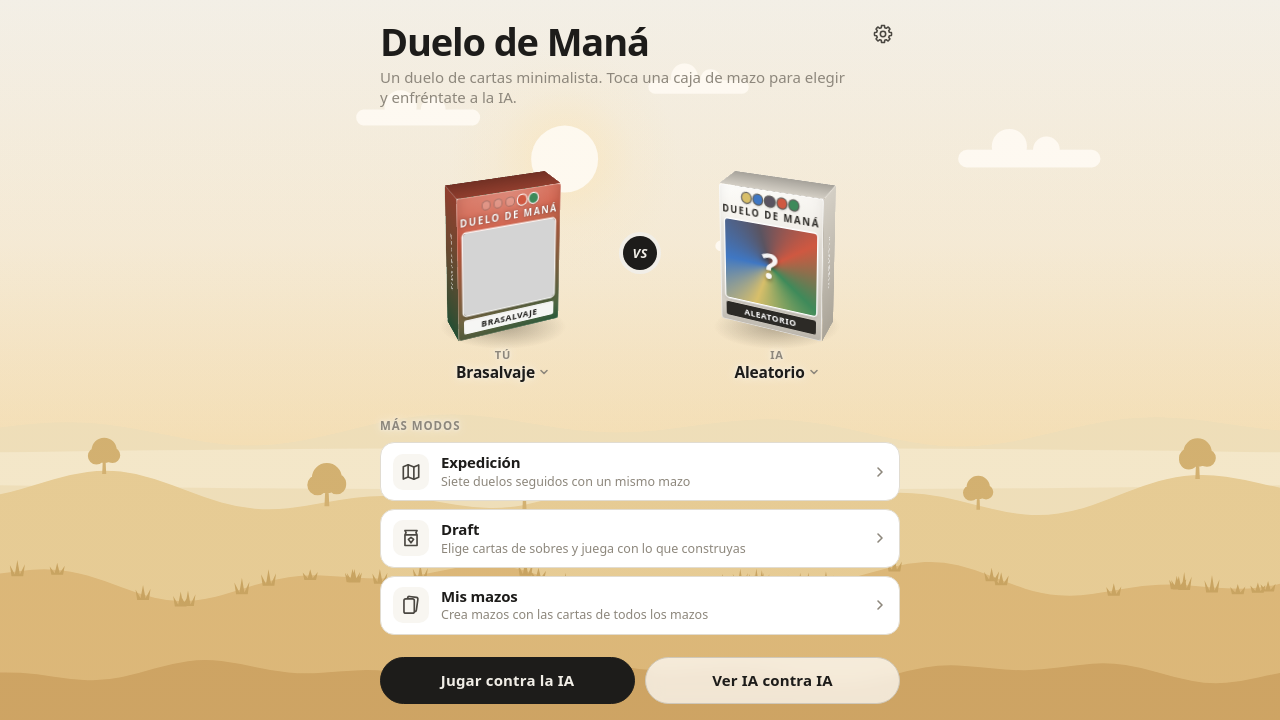
Test: starting an expedition › opens from the start screen, starts a run with the chosen deck and shows its rivals
Expected: the text with test id "btn-expedition-status" reads "Siete duelos seguidos con un mismo mazo", [441, 473, 690, 490]
Click the button with test id "btn-expedition". click: point(640, 472)
box: [380, 442, 900, 501]
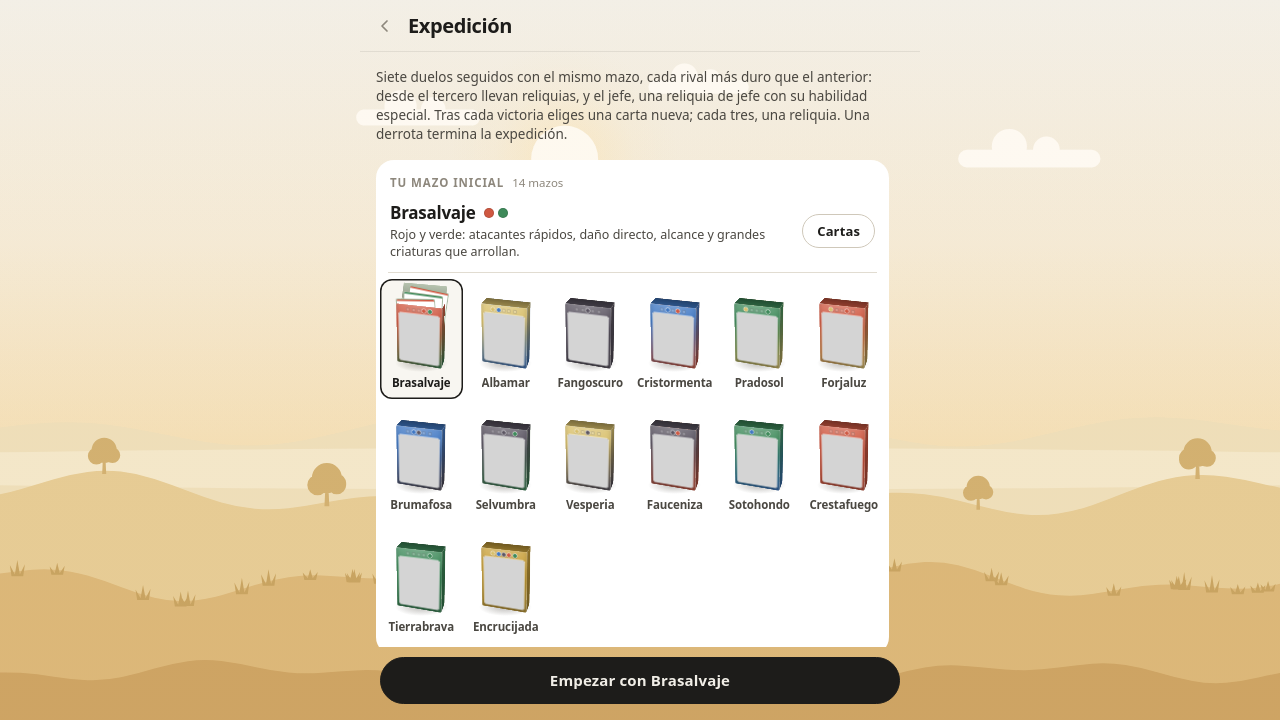
Click the radio button with test id "expedition-deck-dawntide". click: point(506, 339)
box: [464, 279, 547, 399]
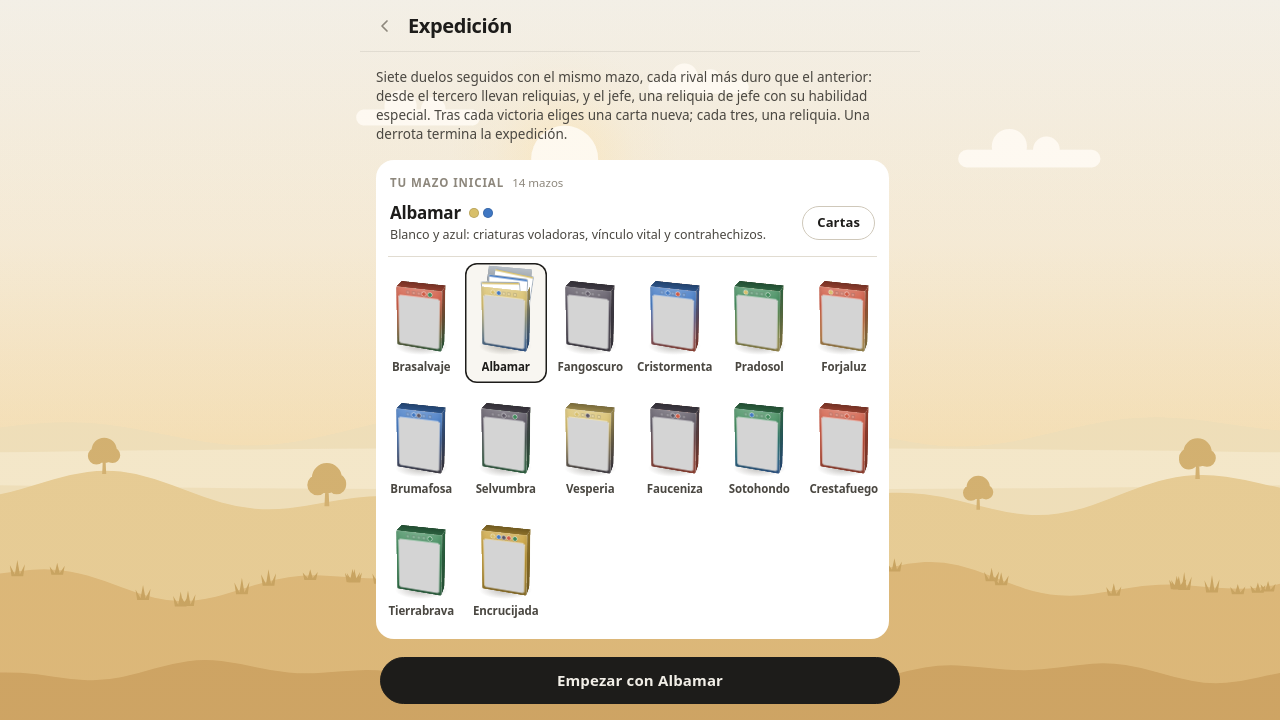
Result: the element with test id "deck-detail" shows "Albamar" at [390, 201, 461, 224]
Click the button with test id "btn-expedition-start". click: point(640, 680)
box: [380, 656, 900, 704]
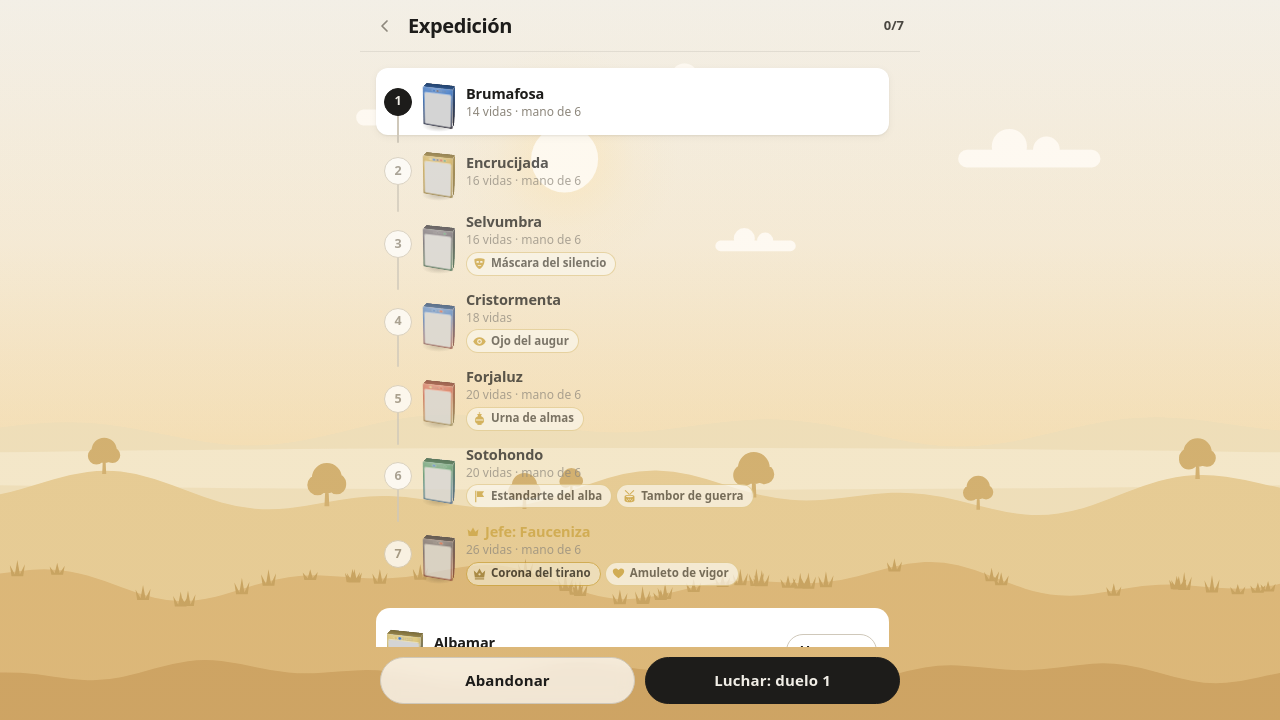
Result: the number of list items is 7
Result: the list item with test id "expedition-floor-1" shows "14 vidas · mano de 6" at [466, 103, 581, 120]
Result: the list item with test id "expedition-floor-7" shows "Jefe:" at [485, 521, 590, 541]
